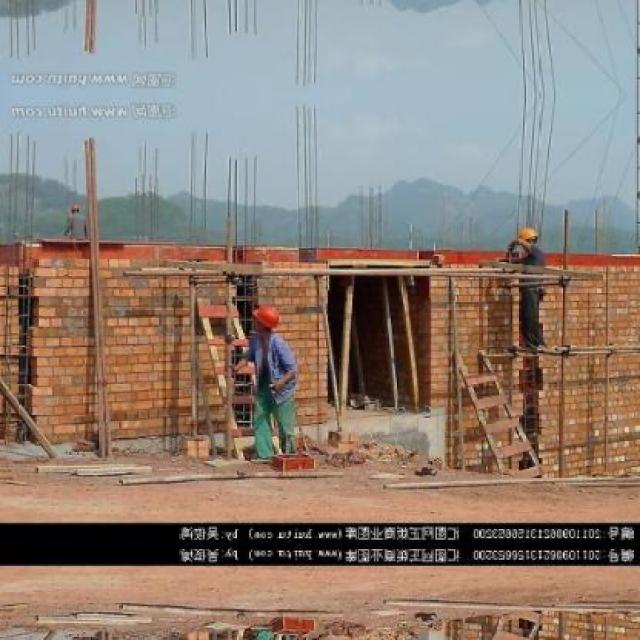con casco: (244, 280, 308, 338)
